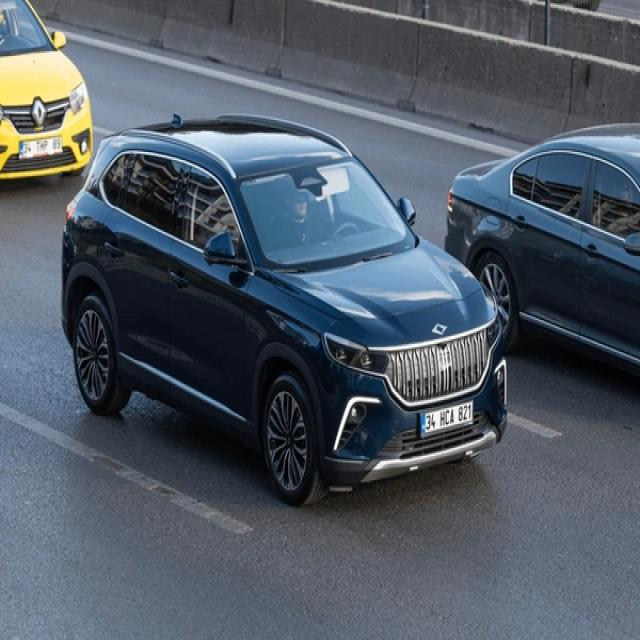togg: (427, 316, 458, 340)
